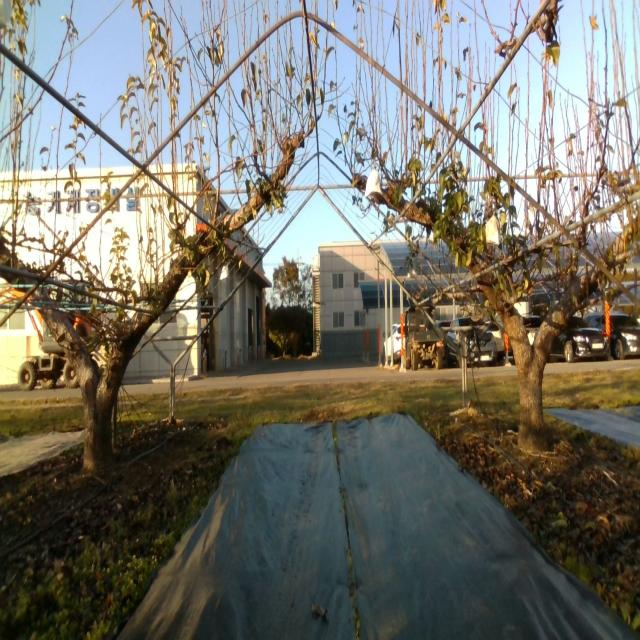pearbags: (485, 212, 501, 252), (365, 167, 383, 198)
